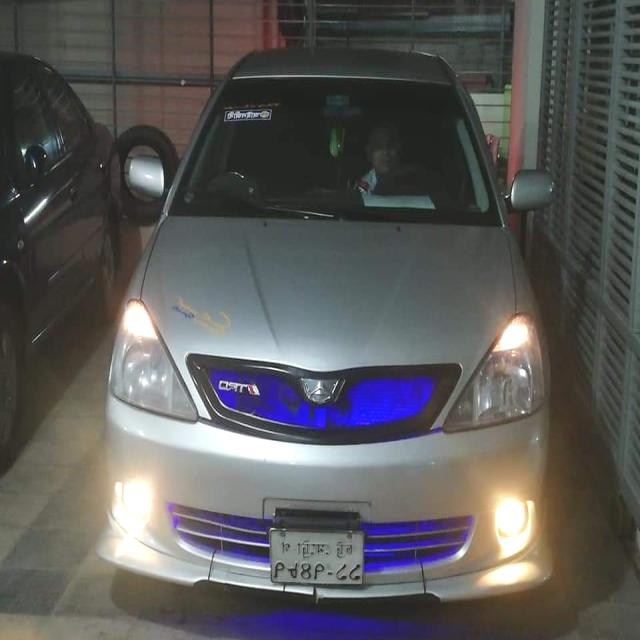silver: (98, 52, 557, 599)
